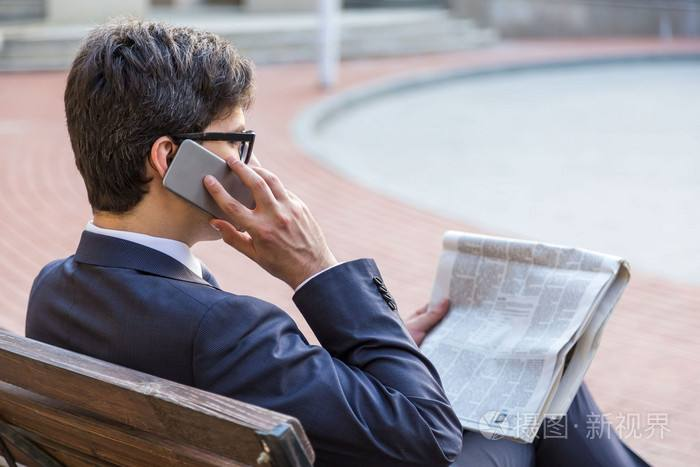calling: (158, 136, 332, 274)
